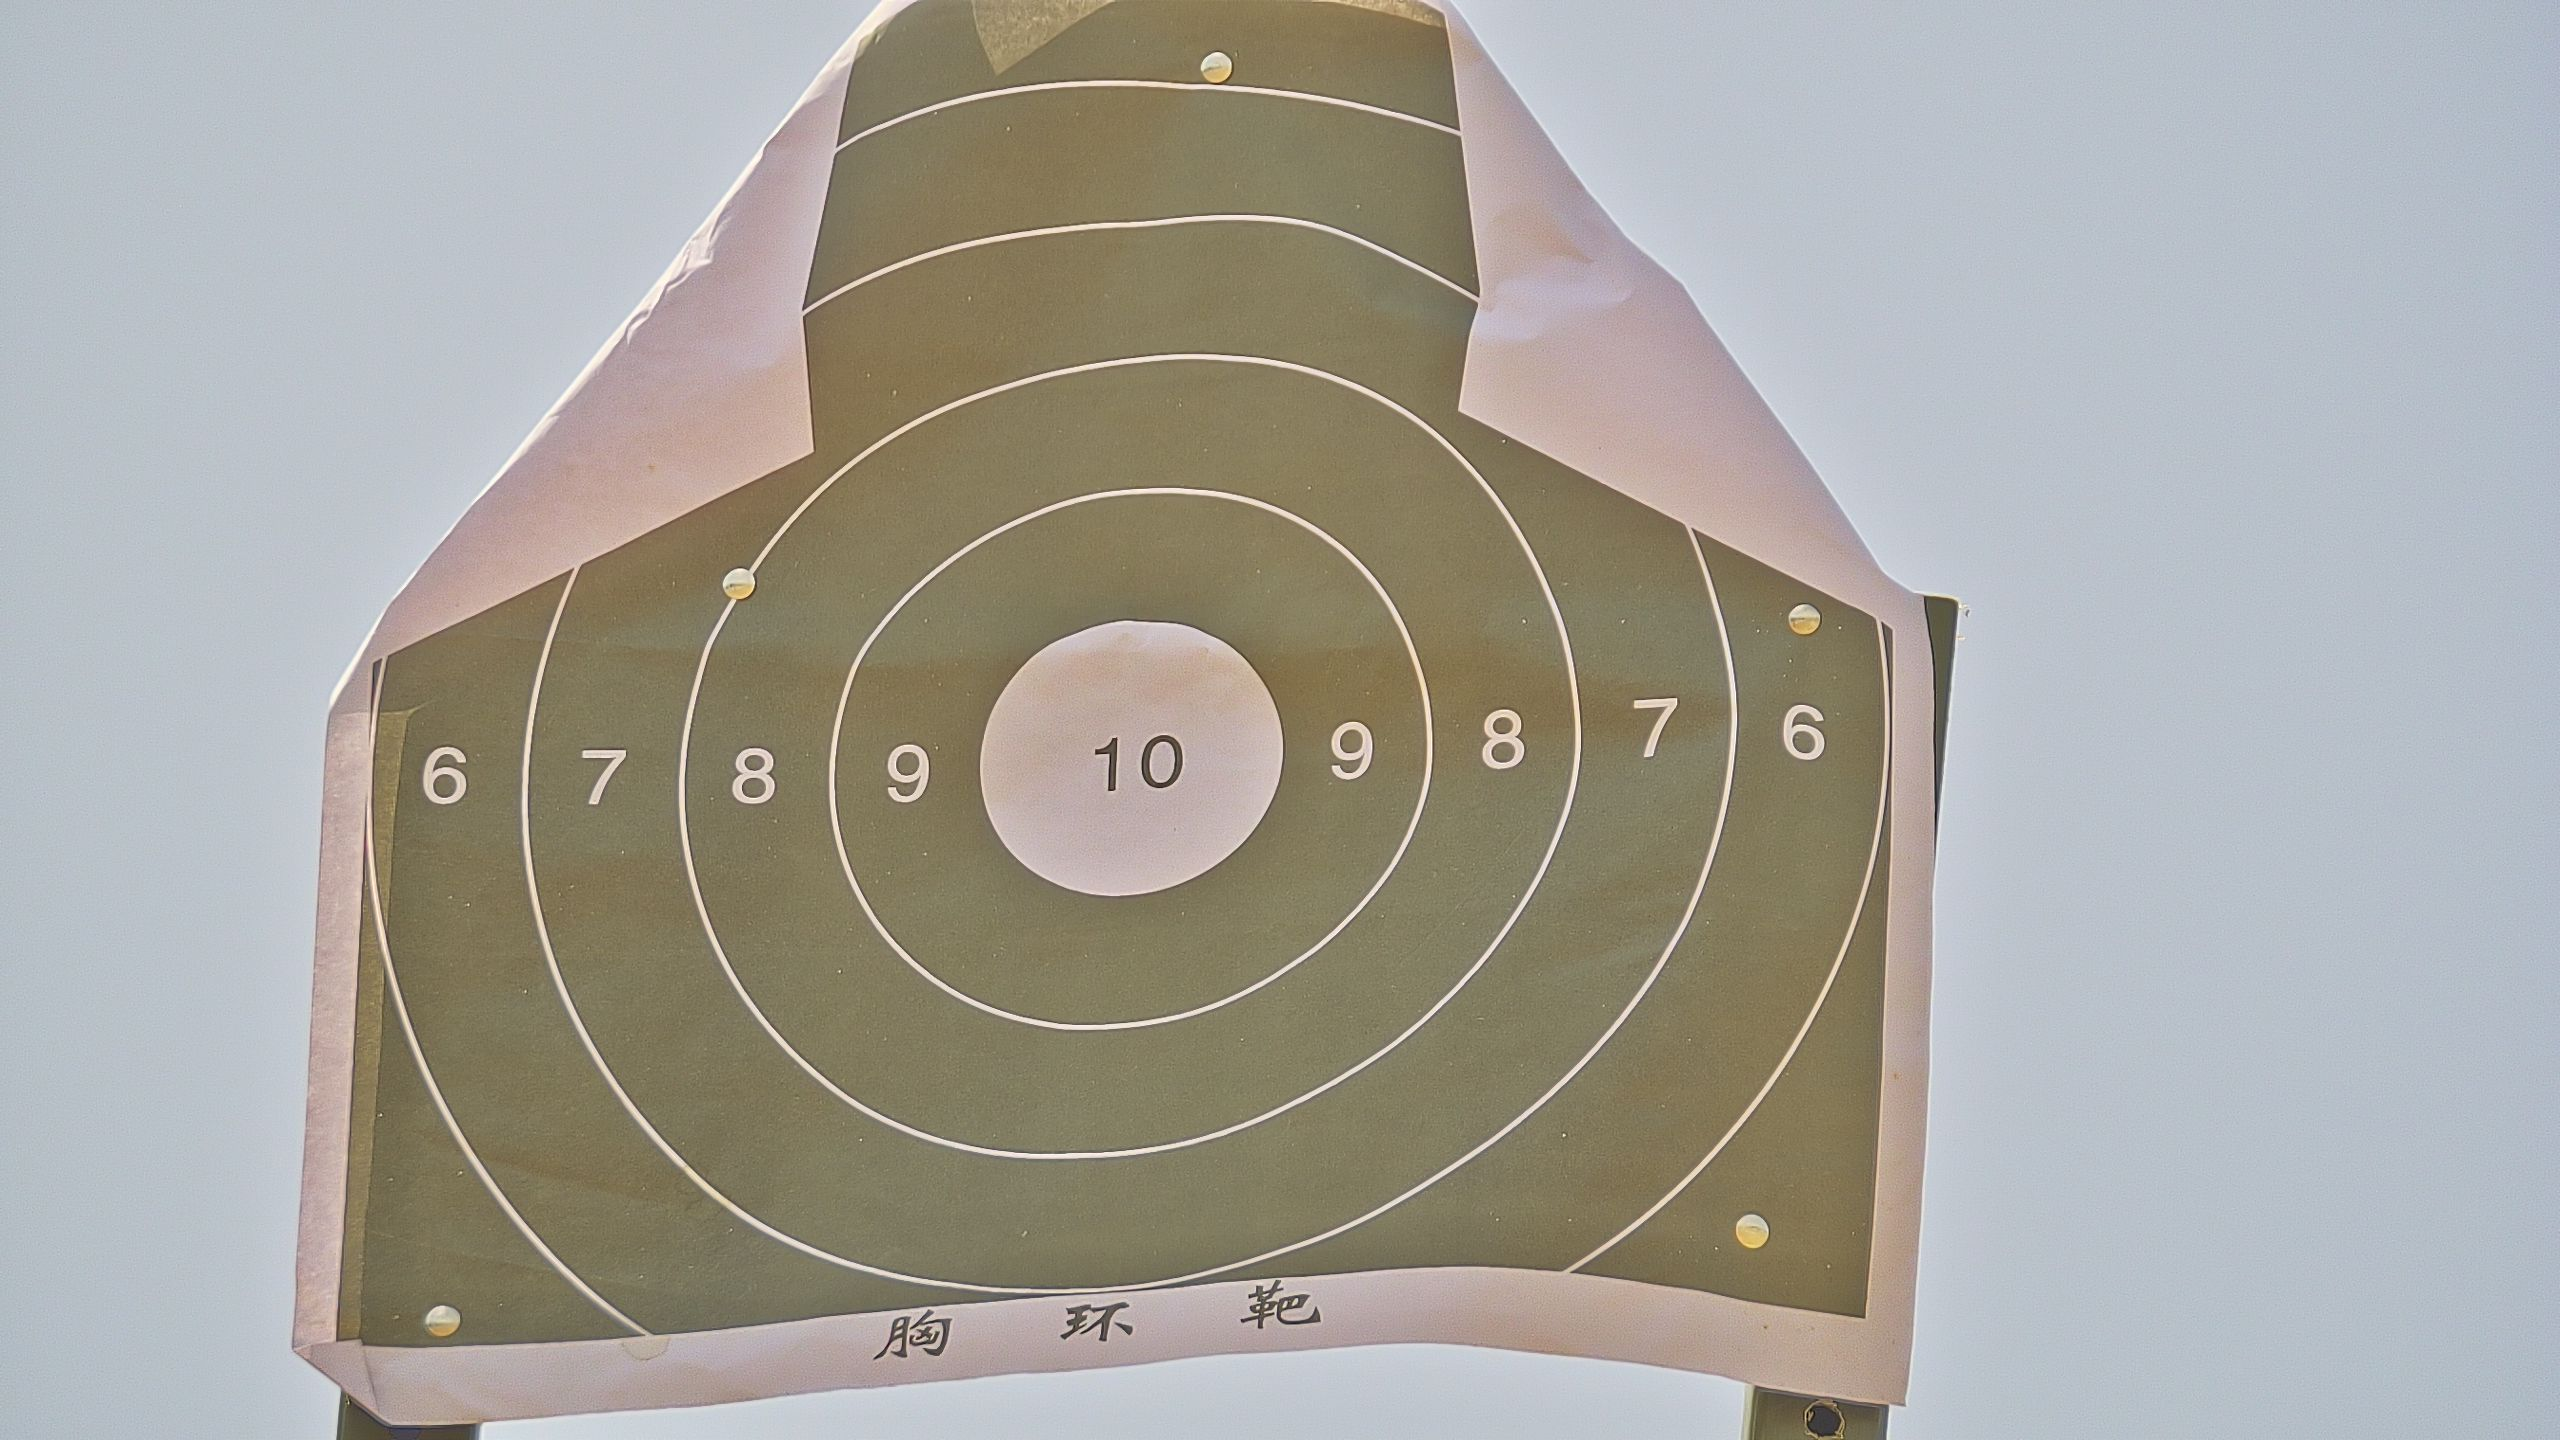kernel: (1129, 758, 1138, 763)
target: (343, 2, 1876, 1333)
ten: (981, 622, 1292, 897)
